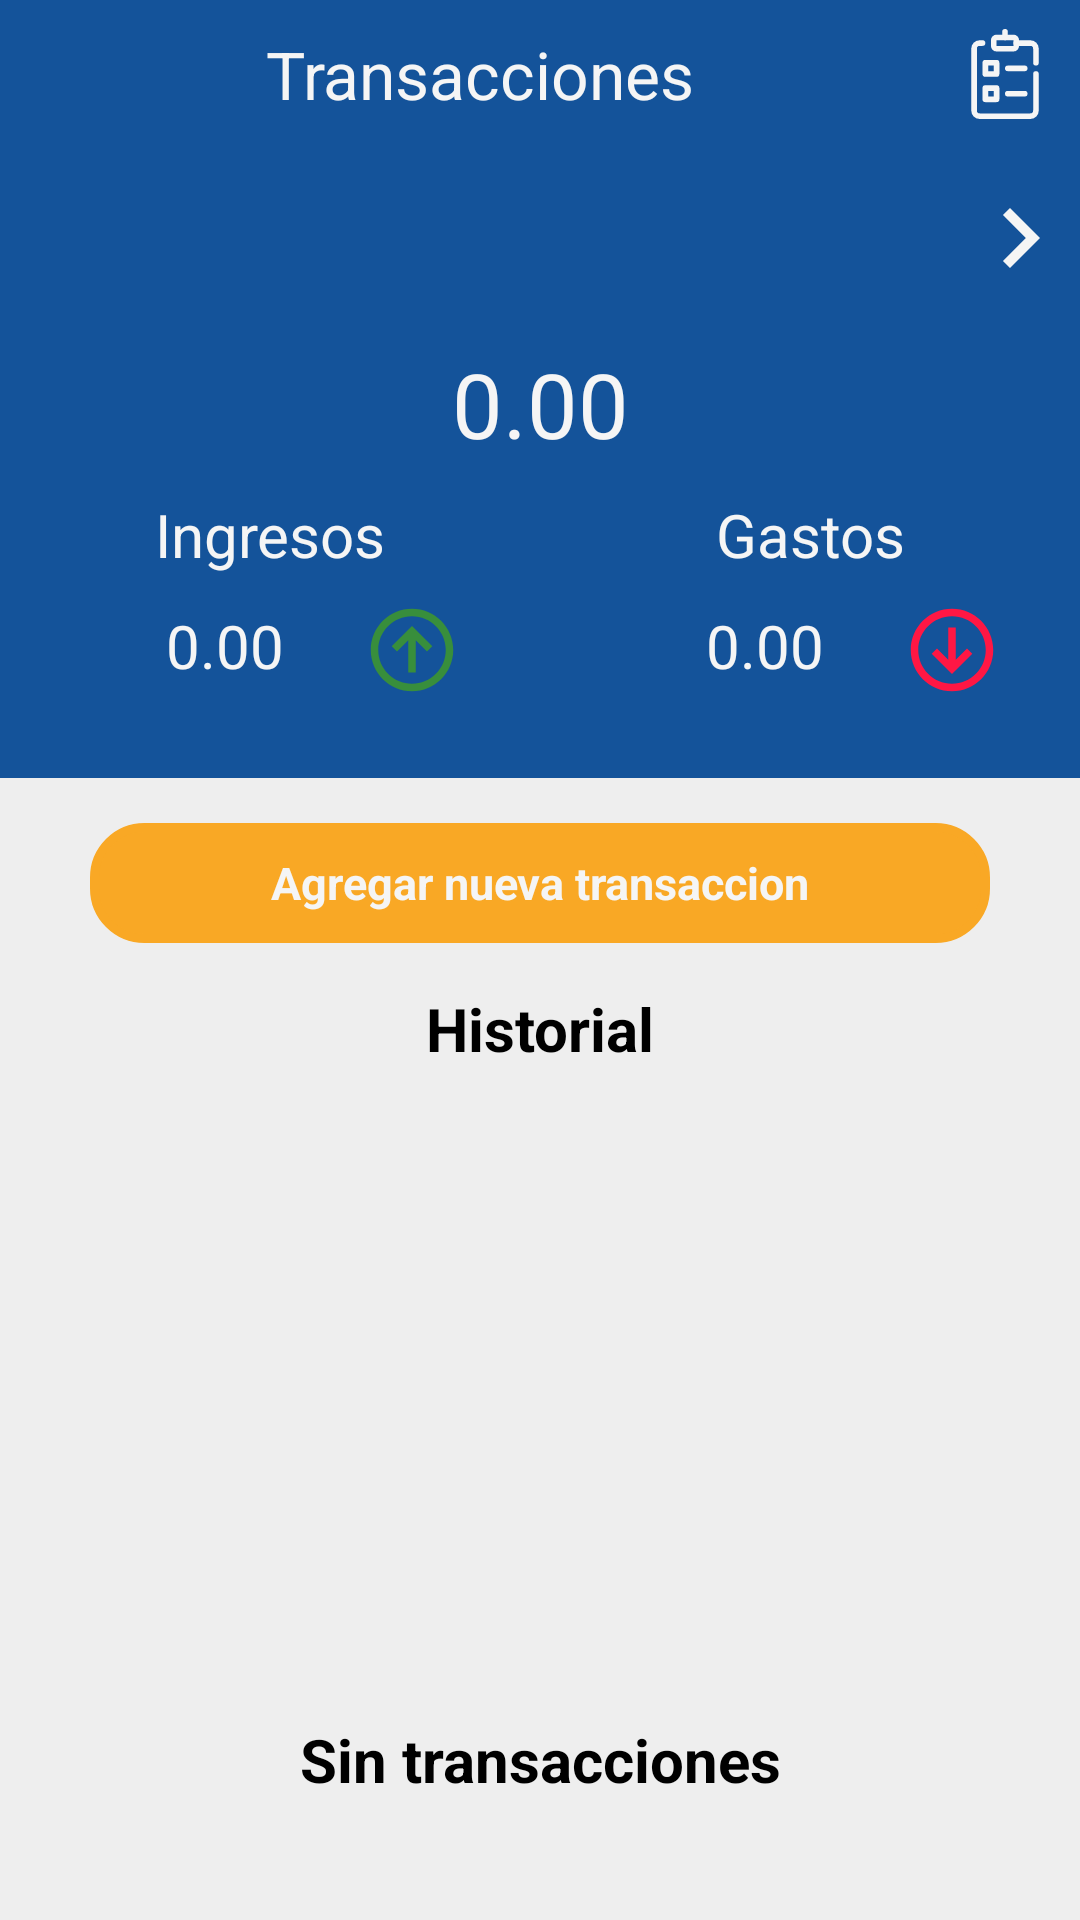

Named icons in this screenshot (1080 x 1920) and their bounding boxes, (x1, y1, x2, y2):
arrow down: (910, 608, 994, 692)
arrow up: (370, 609, 453, 691)
report: (971, 29, 1039, 119)
right arrow: (1003, 208, 1040, 268)
